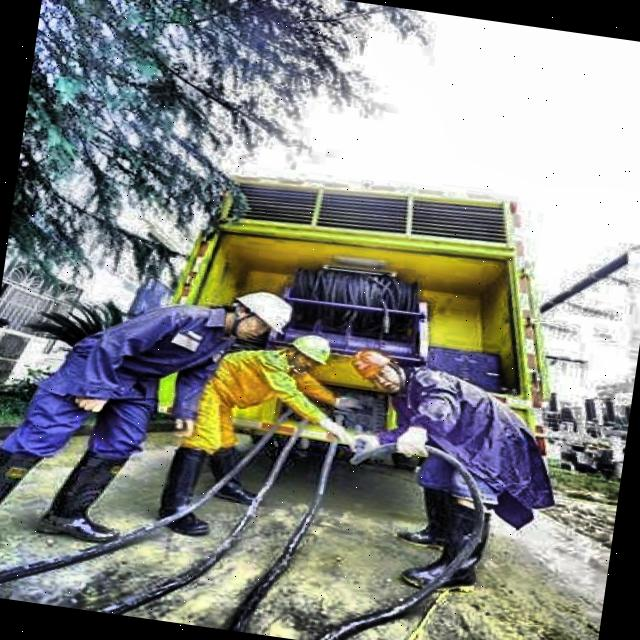helmet: (218, 283, 300, 345), (342, 345, 425, 403), (276, 324, 340, 376)
